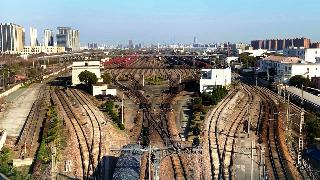train: (112, 142, 142, 180), (170, 78, 196, 93)
